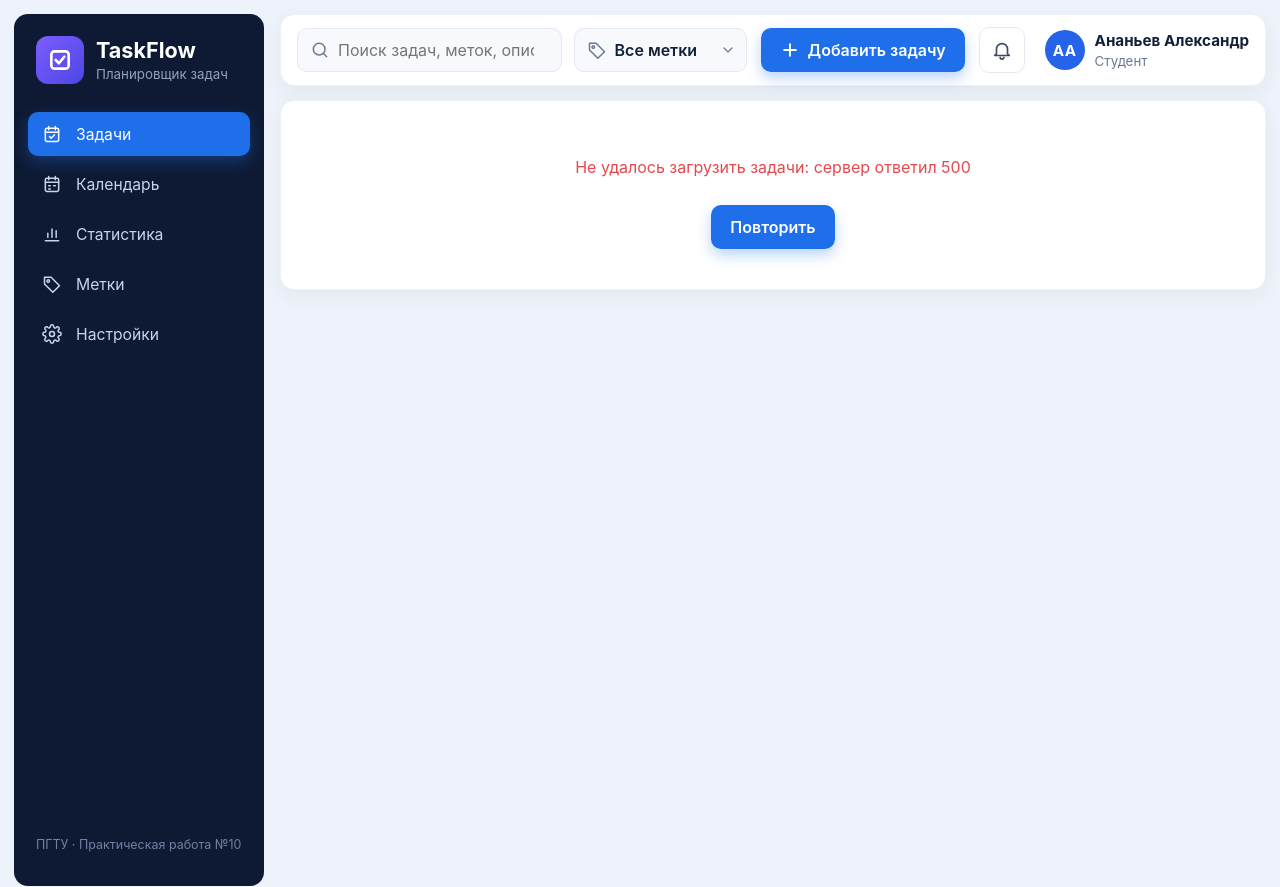
Test case: App › показывает ошибку загрузки и кнопку повтора
Check: the text "Не удалось загрузить задачи: сервер ответил 500" is shown, box x1=575 y1=157 x2=971 y2=177
Step 1. Click the button "Повторить" → (773, 227), box x1=711 y1=205 x2=835 y2=249
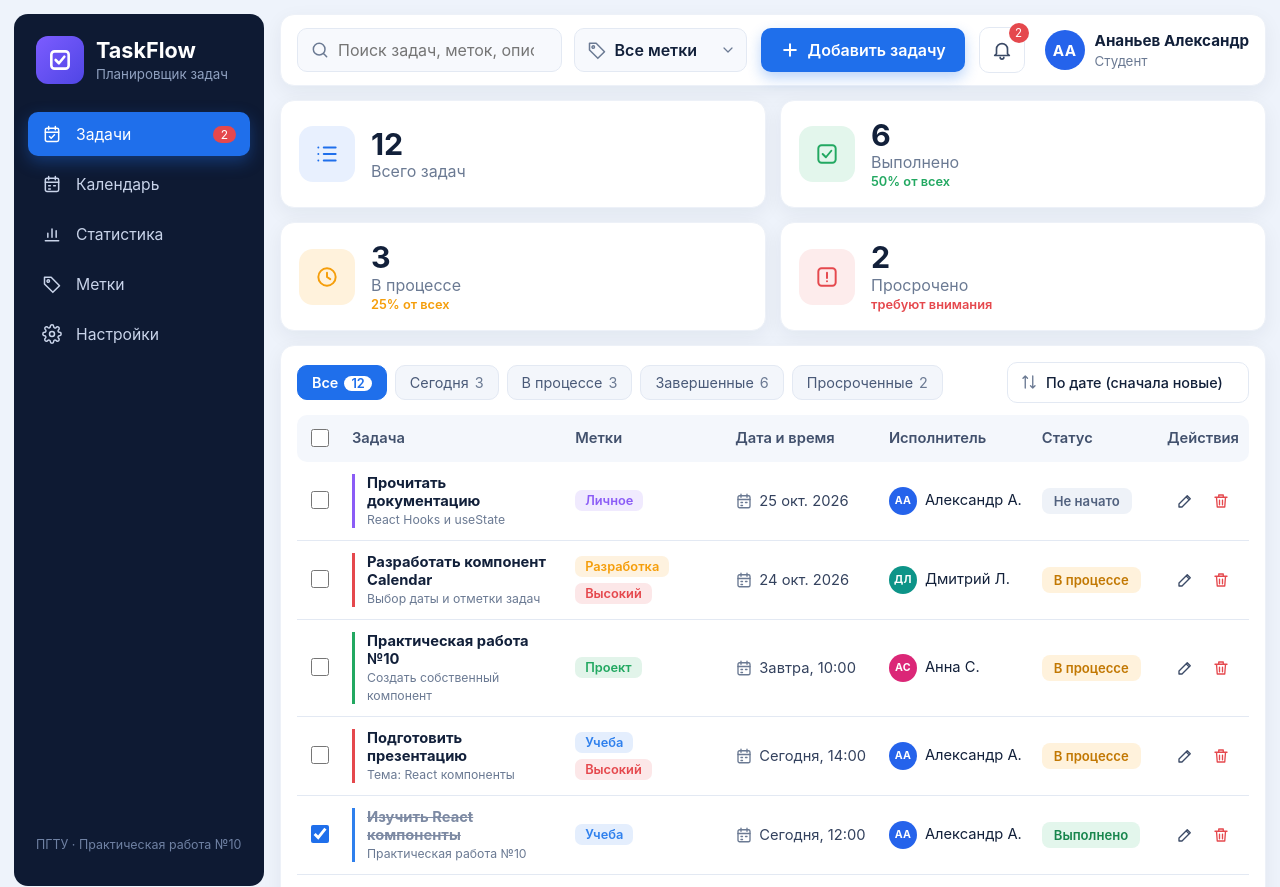
Check: the text "Подготовить презентацию" is shown, box x1=367 y1=729 x2=467 y2=765
